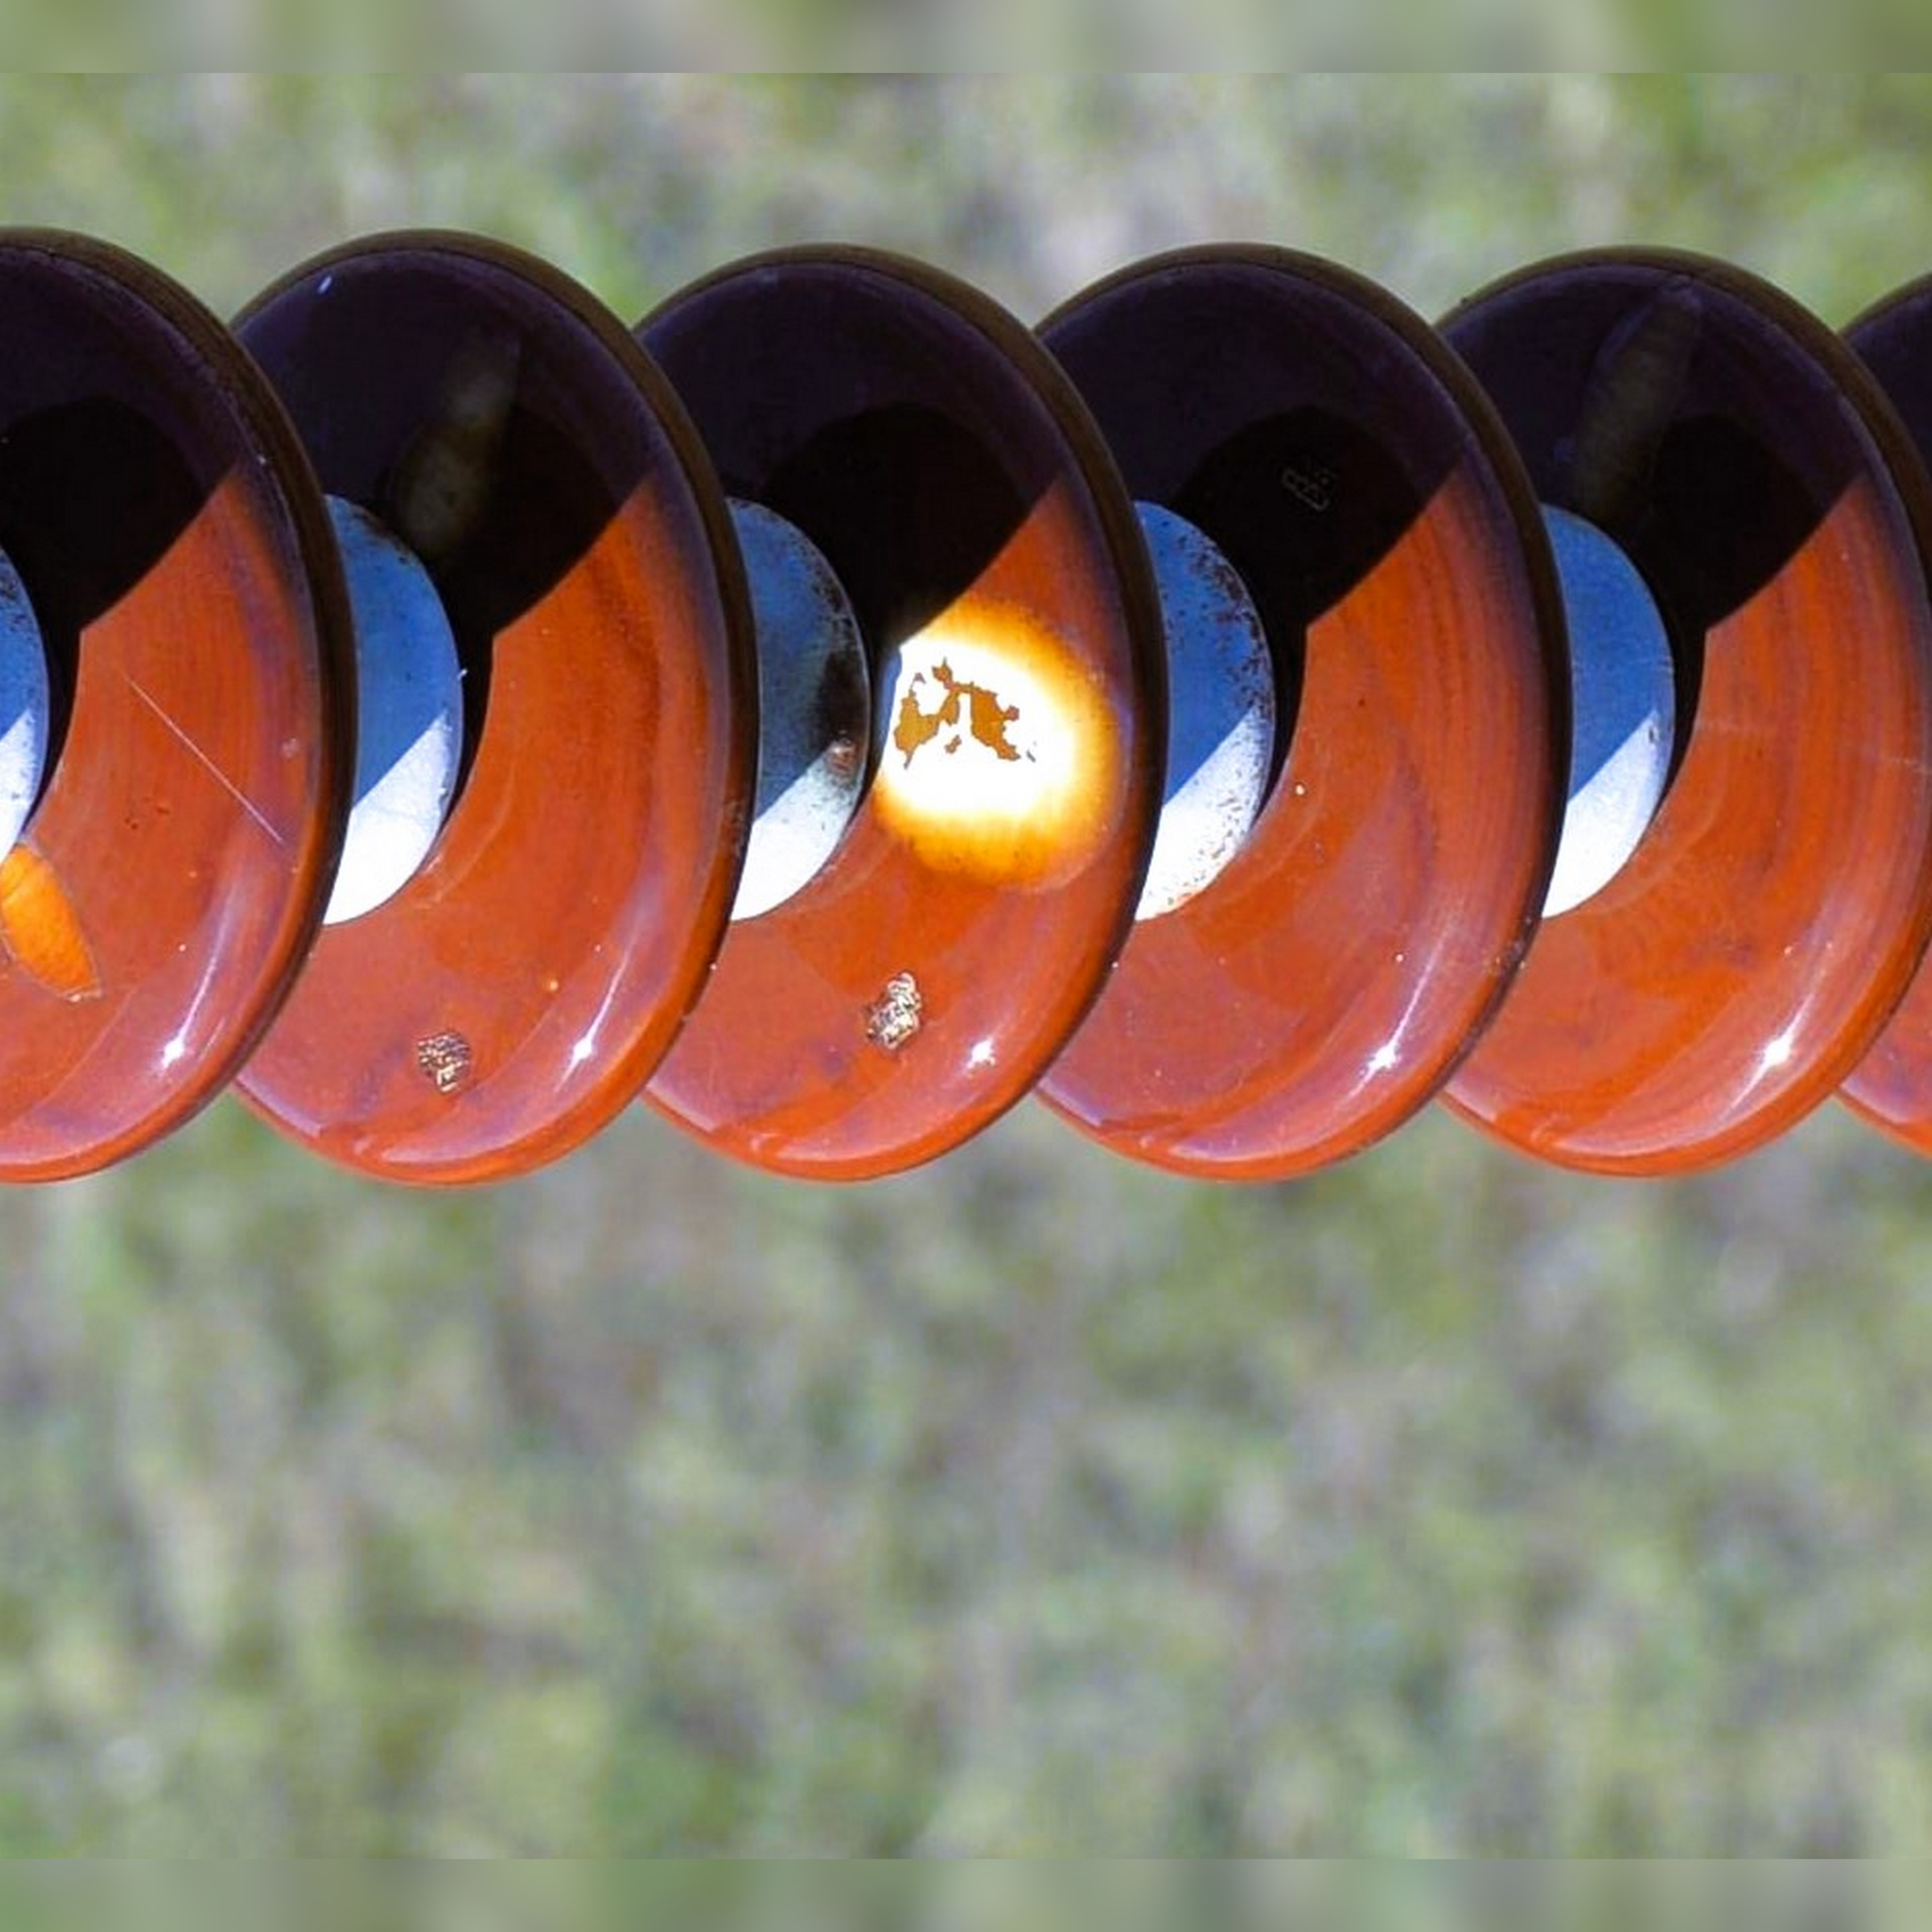Insulator flashover: (607, 234, 1177, 1203)
